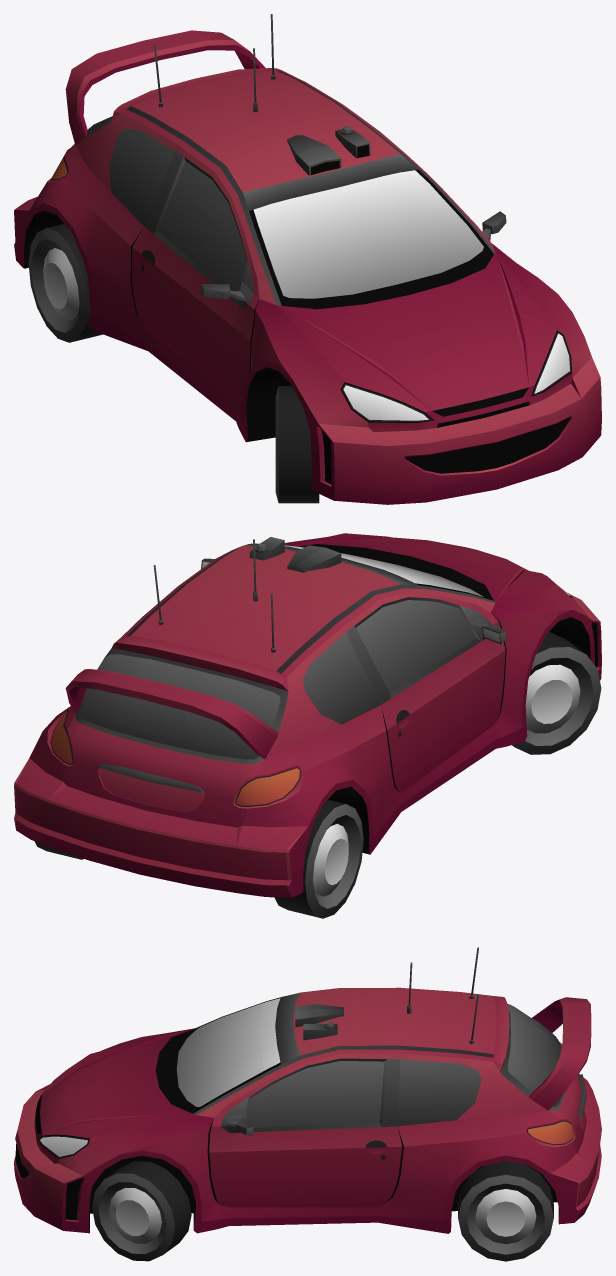
Rendered from car-hatch.glb.
The picture shows the model from 3 angles, top to bottom: view 1: azimuth 30°, elevation 25°; view 2: azimuth 150°, elevation 25°; view 3: azimuth 270°, elevation 25°; orthographic projection. The views are drawn at different scales.
Parts seen in each view (by area): view 1: Body.001_material_0; view 2: Body.001_material_0; view 3: Body.001_material_0.
Part boxes in pixels (left/top/right/bottom): Body.001_material_0: left=14, top=14, right=601, bottom=504; Body.001_material_0: left=14, top=533, right=601, bottom=918; Body.001_material_0: left=14, top=947, right=601, bottom=1261.
Bounding box in the file's own units: 0.7181 × 0.635 × 1.39.
Materials: 1 (1 with a texture image).
